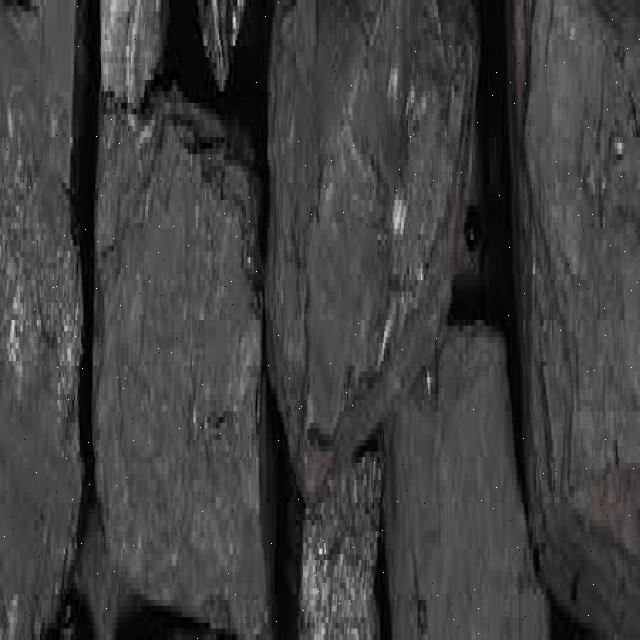Sedimentary: (1, 11, 640, 634)
